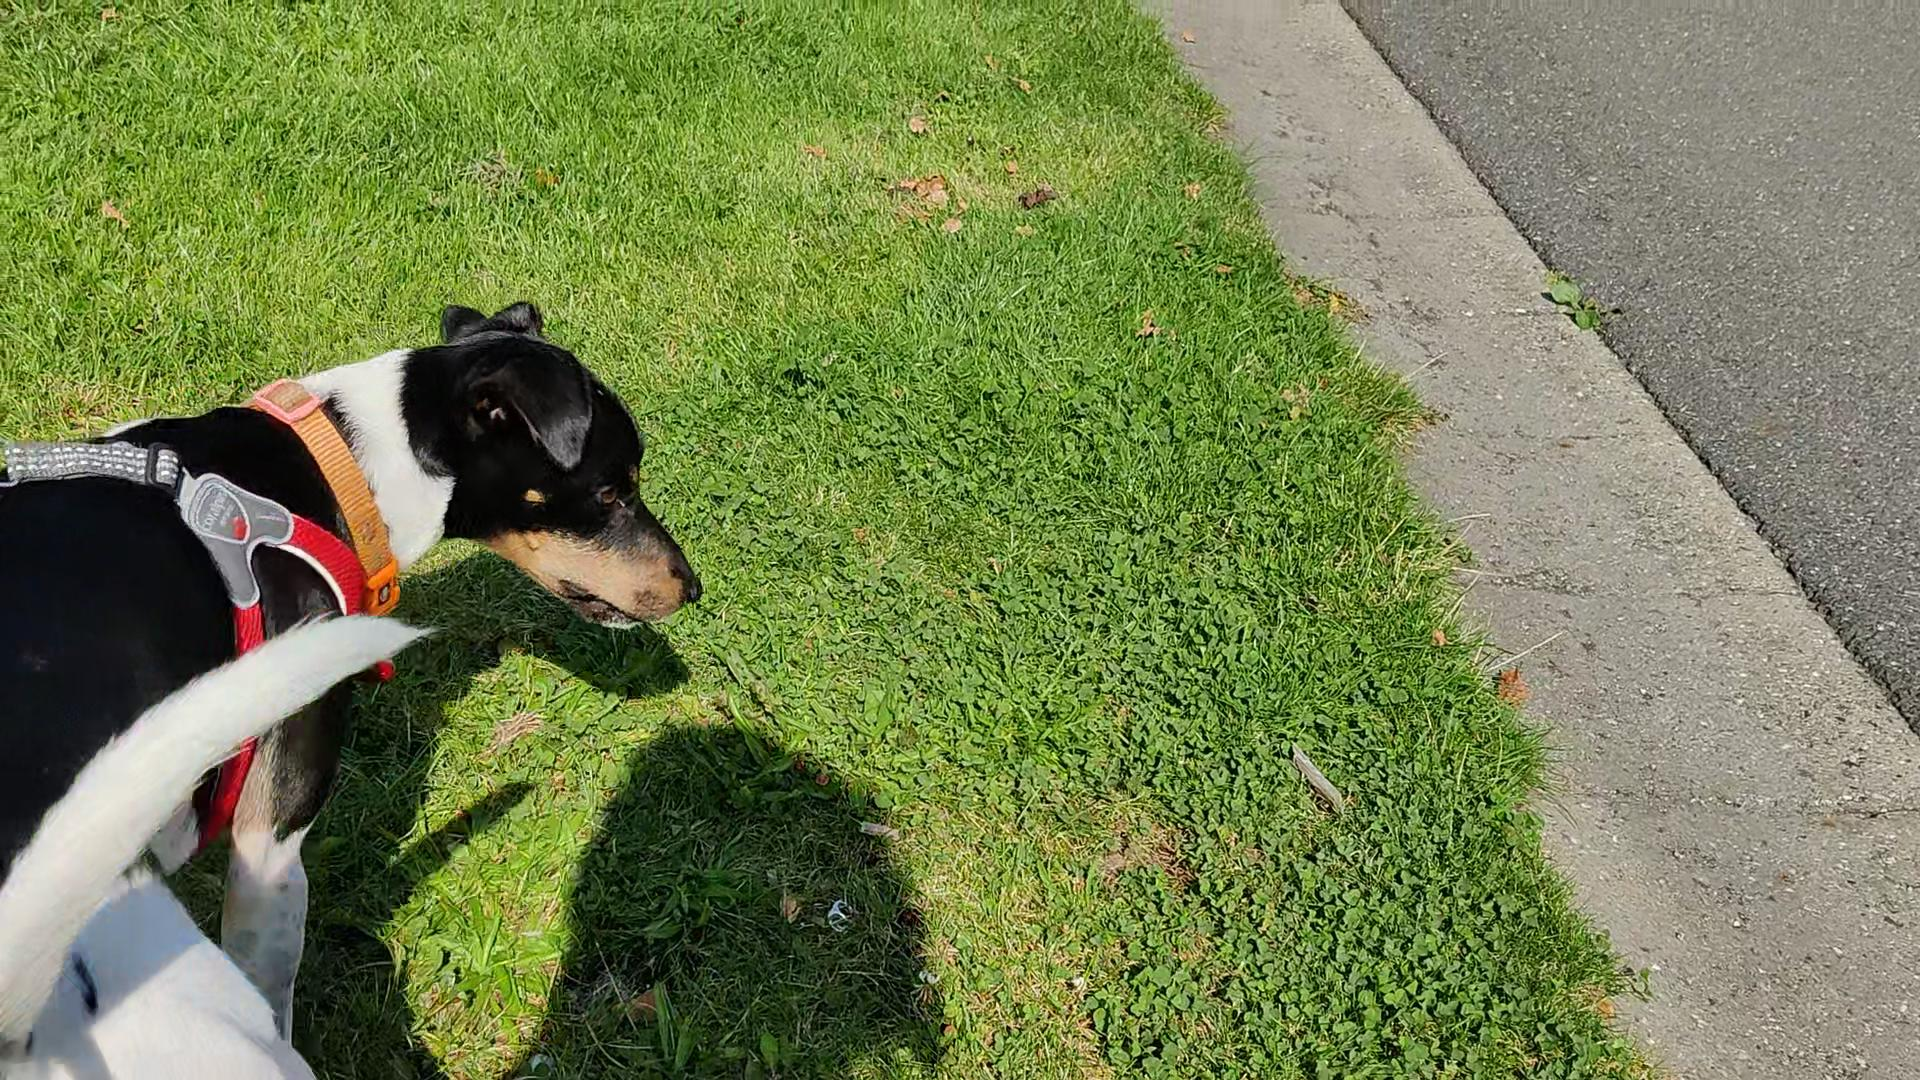Dog: (0, 284, 725, 1079)
